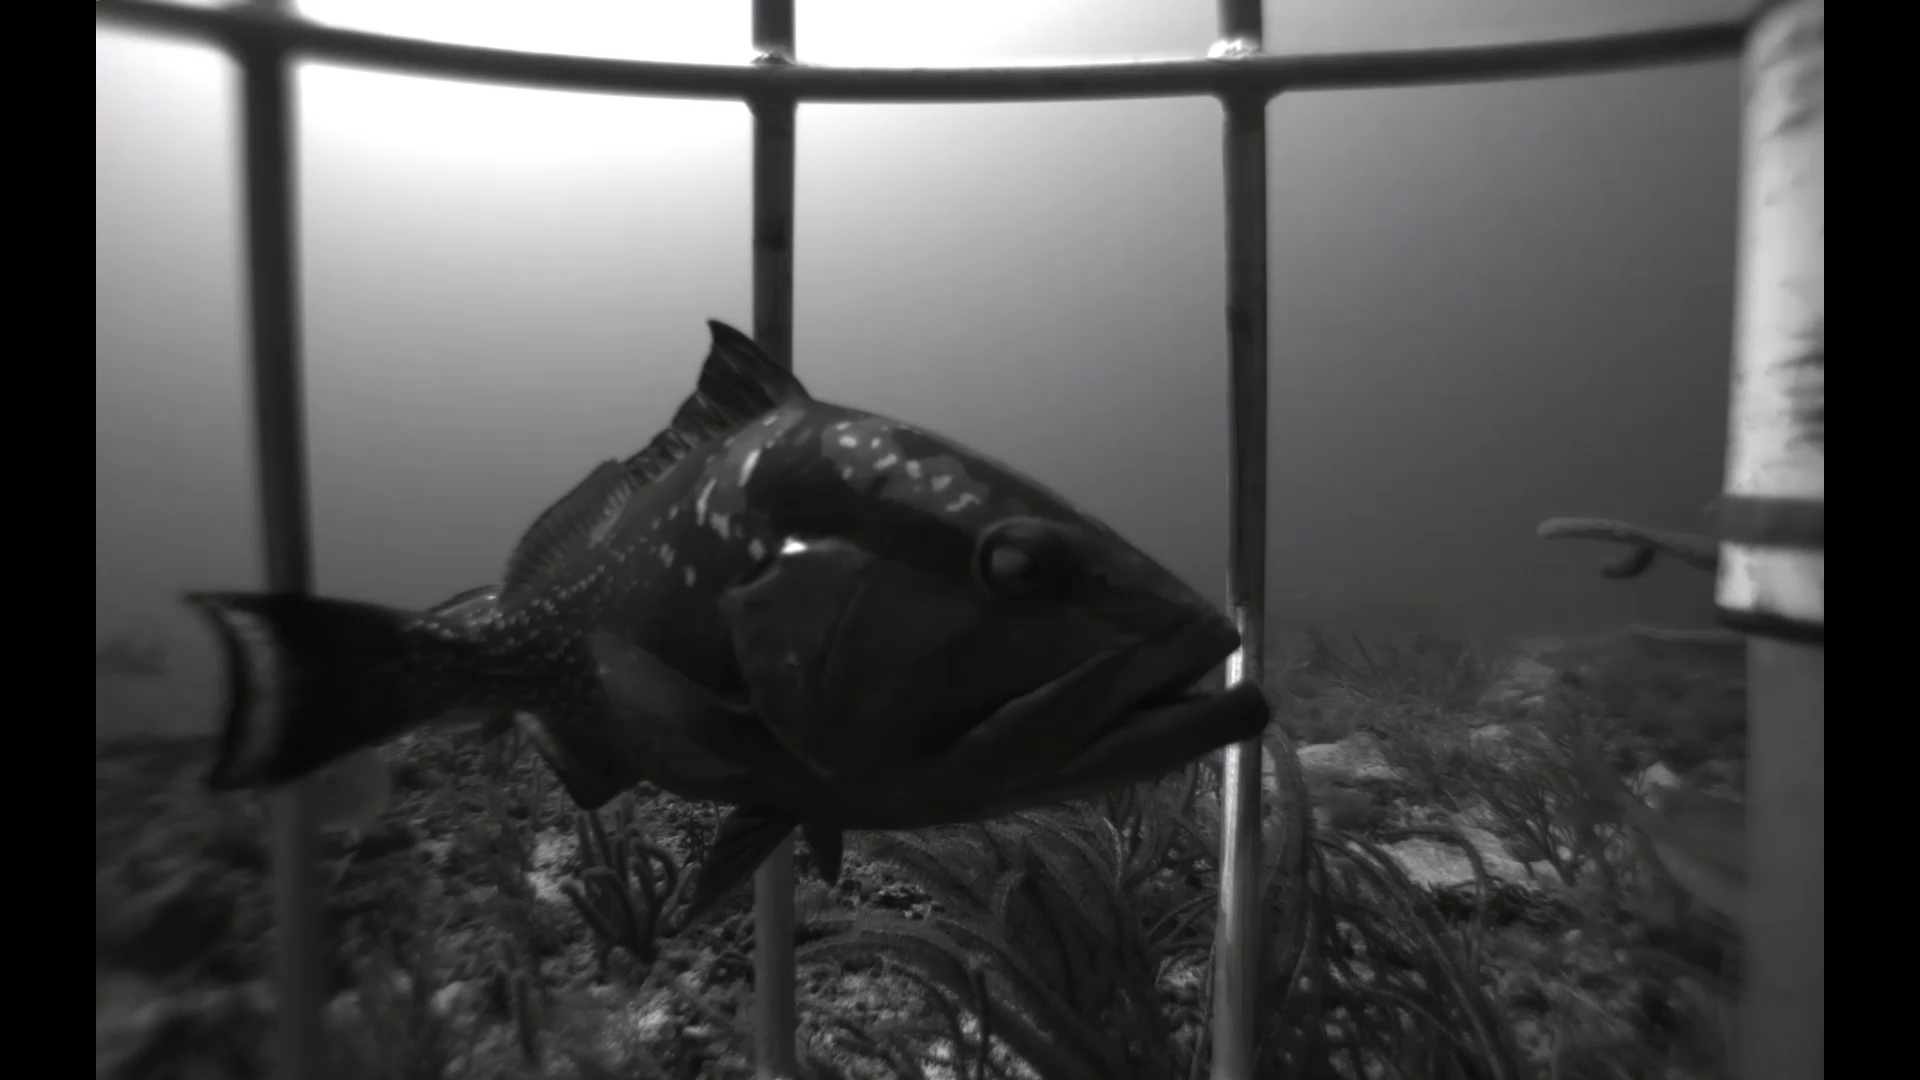CALAMUSNODOSUS-170210608: (1543, 699, 1747, 943), (305, 744, 435, 855)
EPINEPHELUSMORIO-170021211: (156, 301, 1287, 927), (407, 574, 531, 756)
